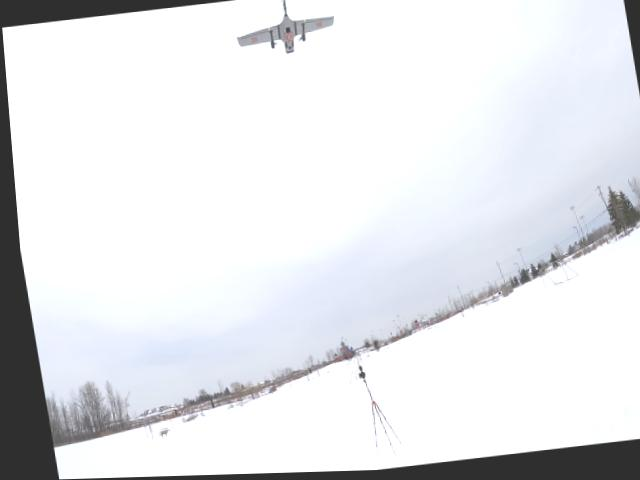plane: (228, 0, 337, 59)
